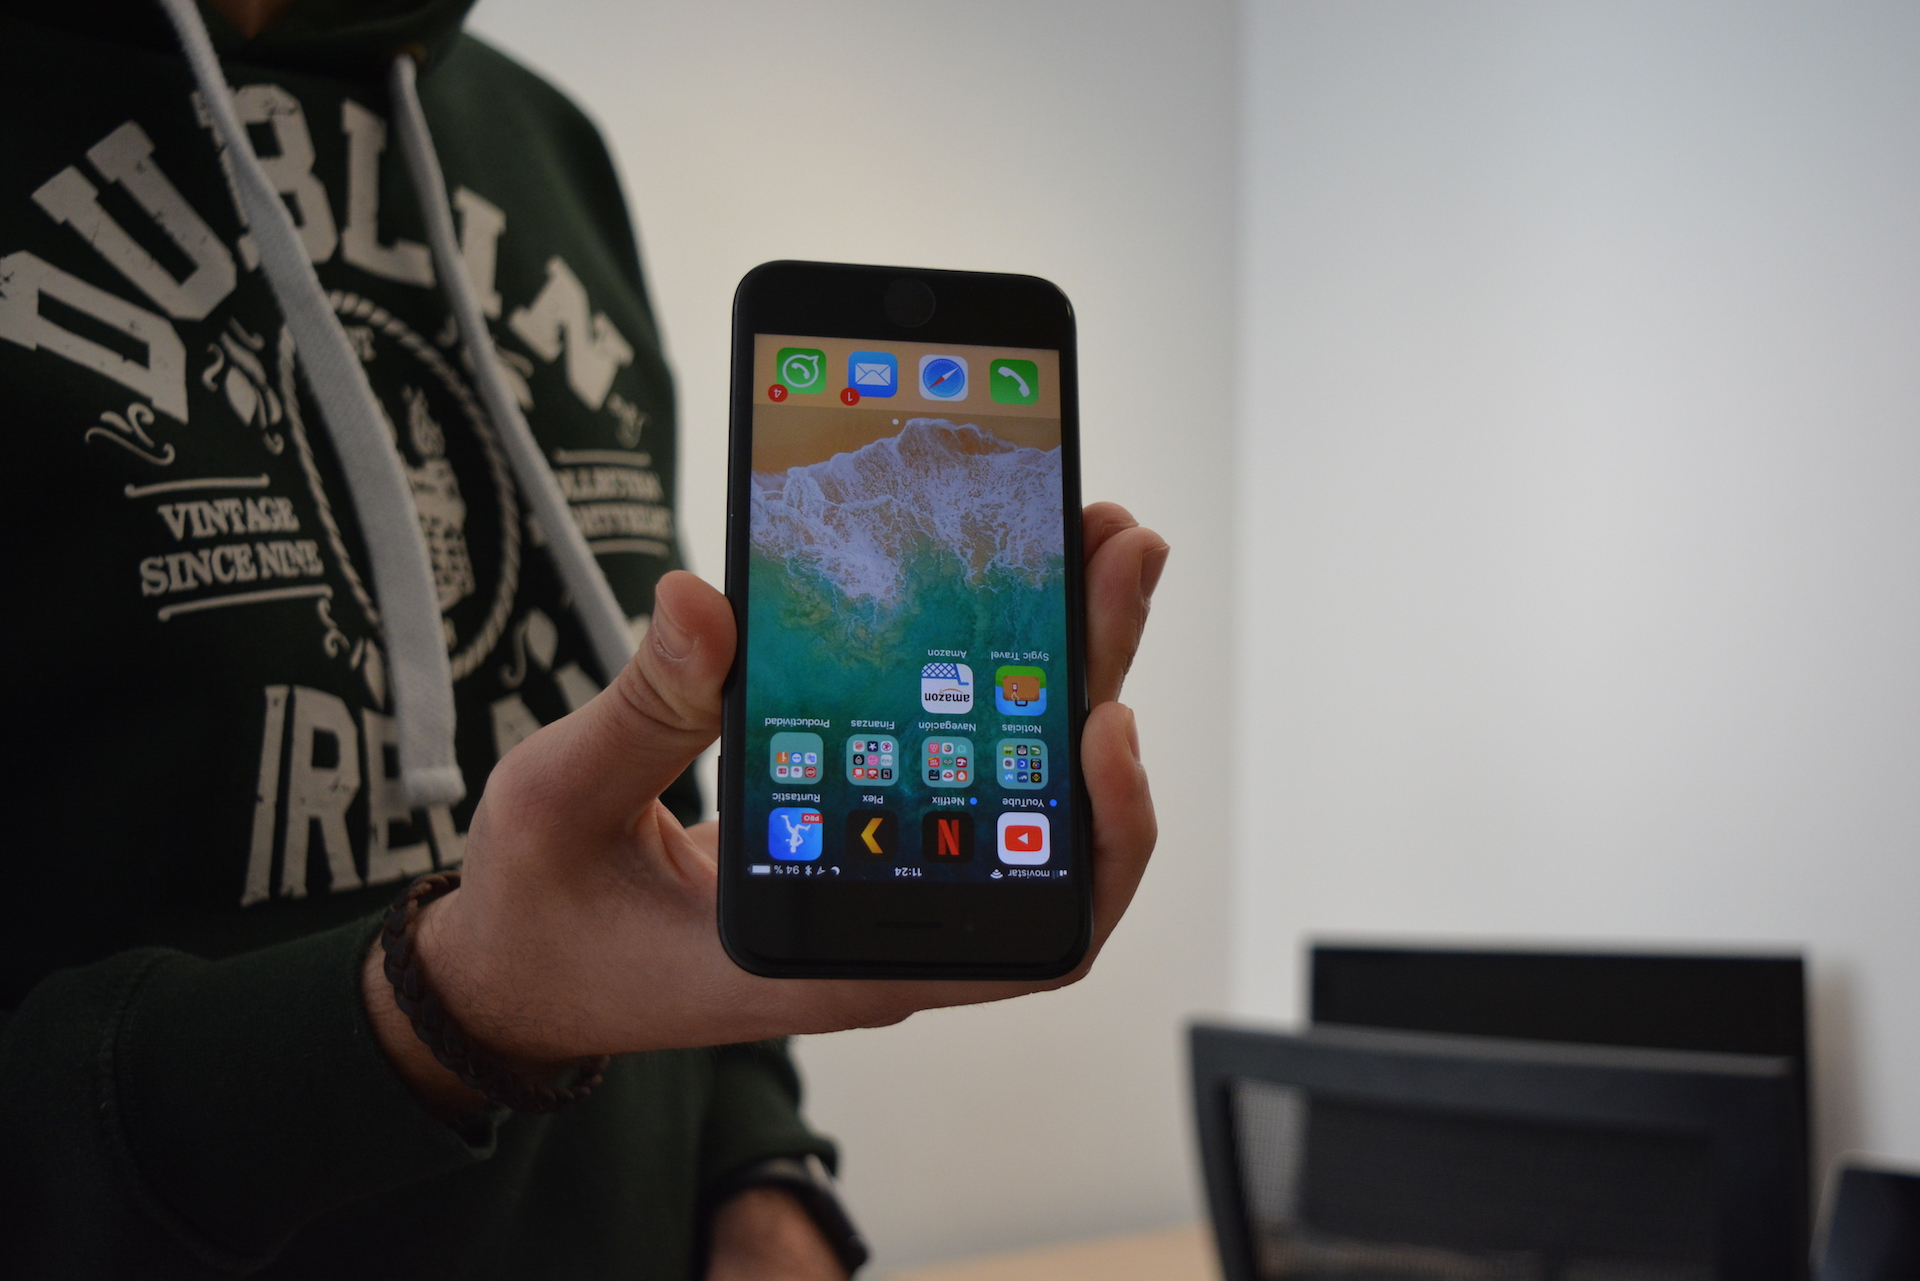smartphone: (709, 254, 1099, 994)
